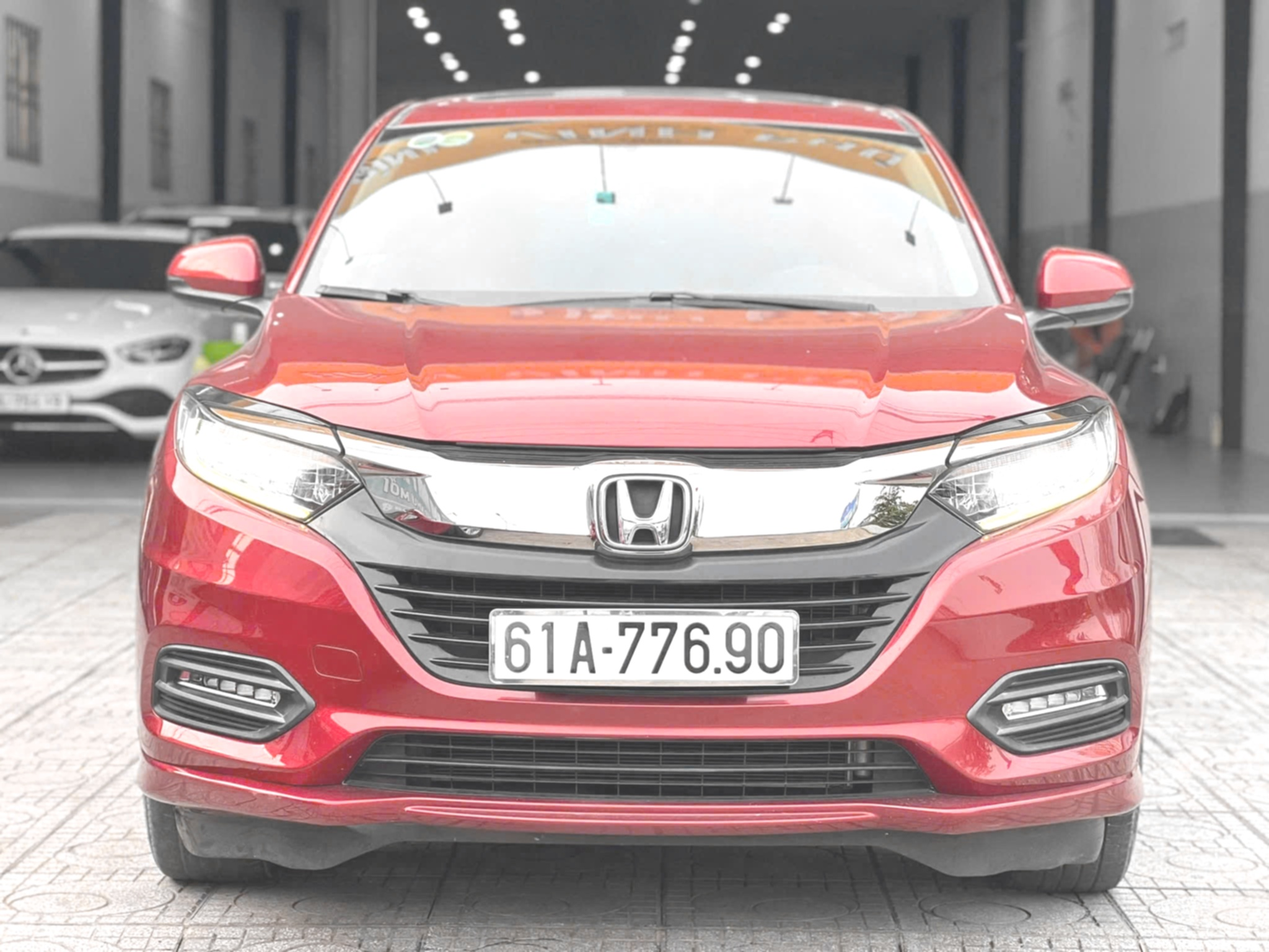Bien-so: (498, 617, 796, 689)
